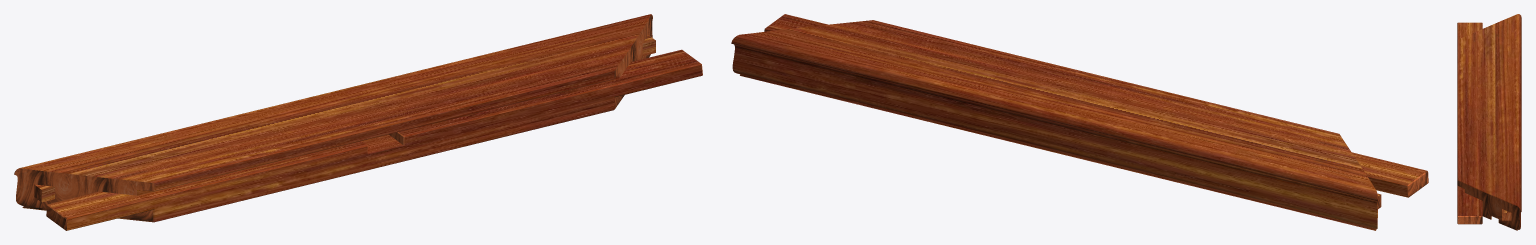
Rendered from GMY_J_dabian_01.FBX.
3 renders of one model, left to right at view 1: azimuth 30°, elevation 25°; view 2: azimuth 150°, elevation 25°; view 3: azimuth 270°, elevation 25°, orthographic. The views are drawn at different scales.
Visible parts, largest first — view 1: GMY_J_dabian_01; view 2: GMY_J_dabian_01; view 3: GMY_J_dabian_01.
Part boxes in pixels (box(x1,y1,x2,y2)): GMY_J_dabian_01: box(14, 14, 702, 230); GMY_J_dabian_01: box(731, 14, 1428, 230); GMY_J_dabian_01: box(1457, 14, 1521, 230).
Size of the model in its own units: 57.86 by 3.5 by 8.04.
